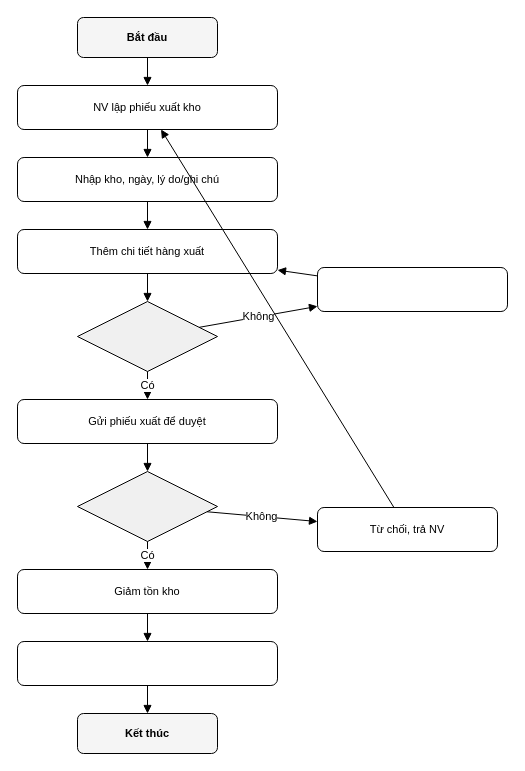
This 525x771 diagram has some shape labels left out. Each missing label, with the centre of its shape:
"Báo lỗi tồn không đủ" belongs at (x=412, y=289).
"In phiếu xuất" belongs at (x=147, y=663).
"Quản lý duyệt?" belongs at (x=147, y=506).
"Tồn kho đủ?" belongs at (x=147, y=336).
